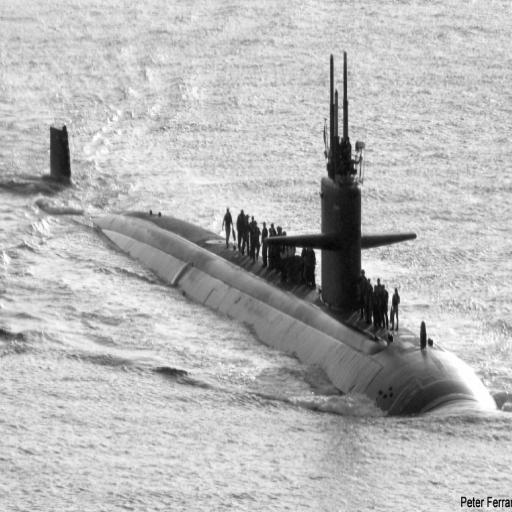submarine: (52, 55, 502, 415)
